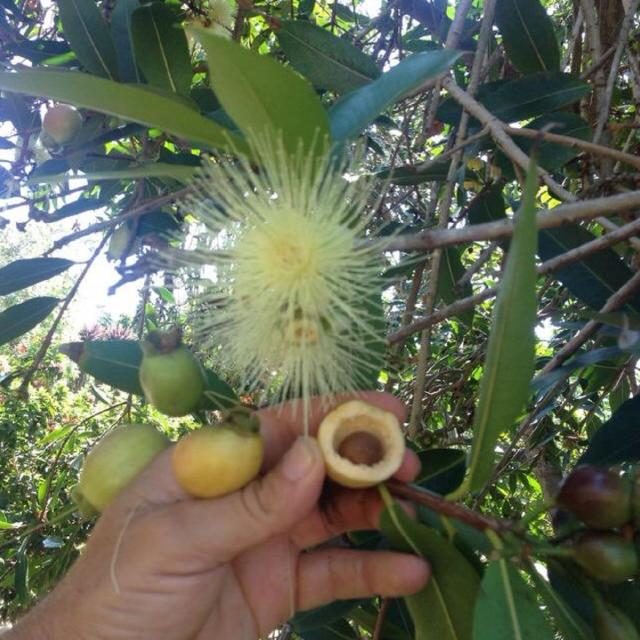Medicinal-Rose Apple: (0, 1, 640, 492), (429, 234, 640, 630)
